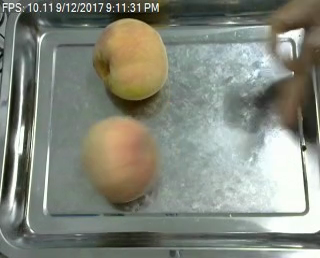Peach: (82, 116, 158, 203), (93, 18, 169, 101)
